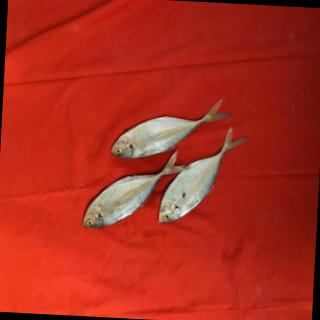Ikan: (78, 90, 261, 243)
